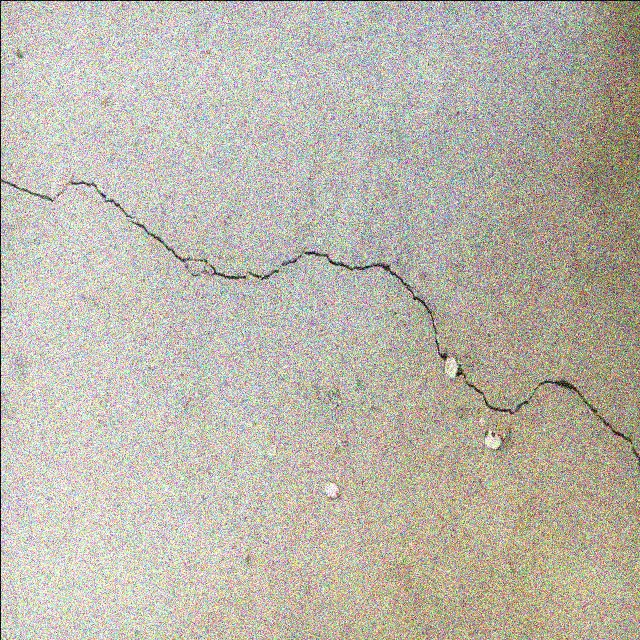SurfaceCrack: (1, 154, 640, 507)
